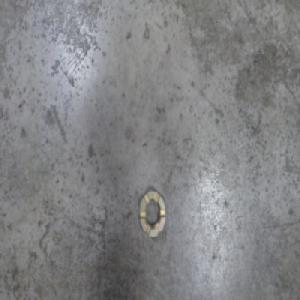Nut: (138, 186, 166, 238)
